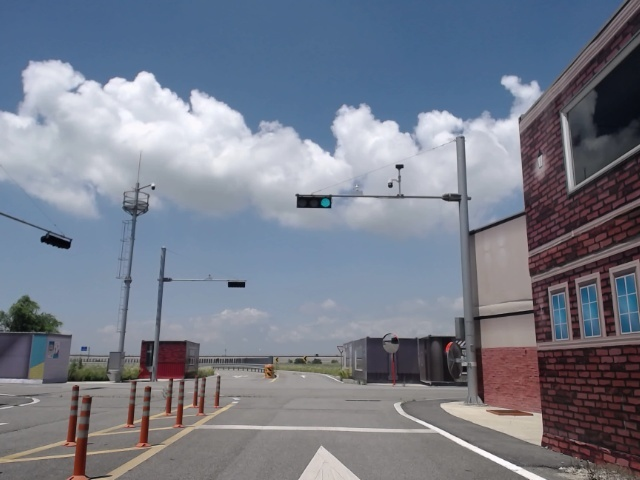green_3: (298, 191, 333, 210)
